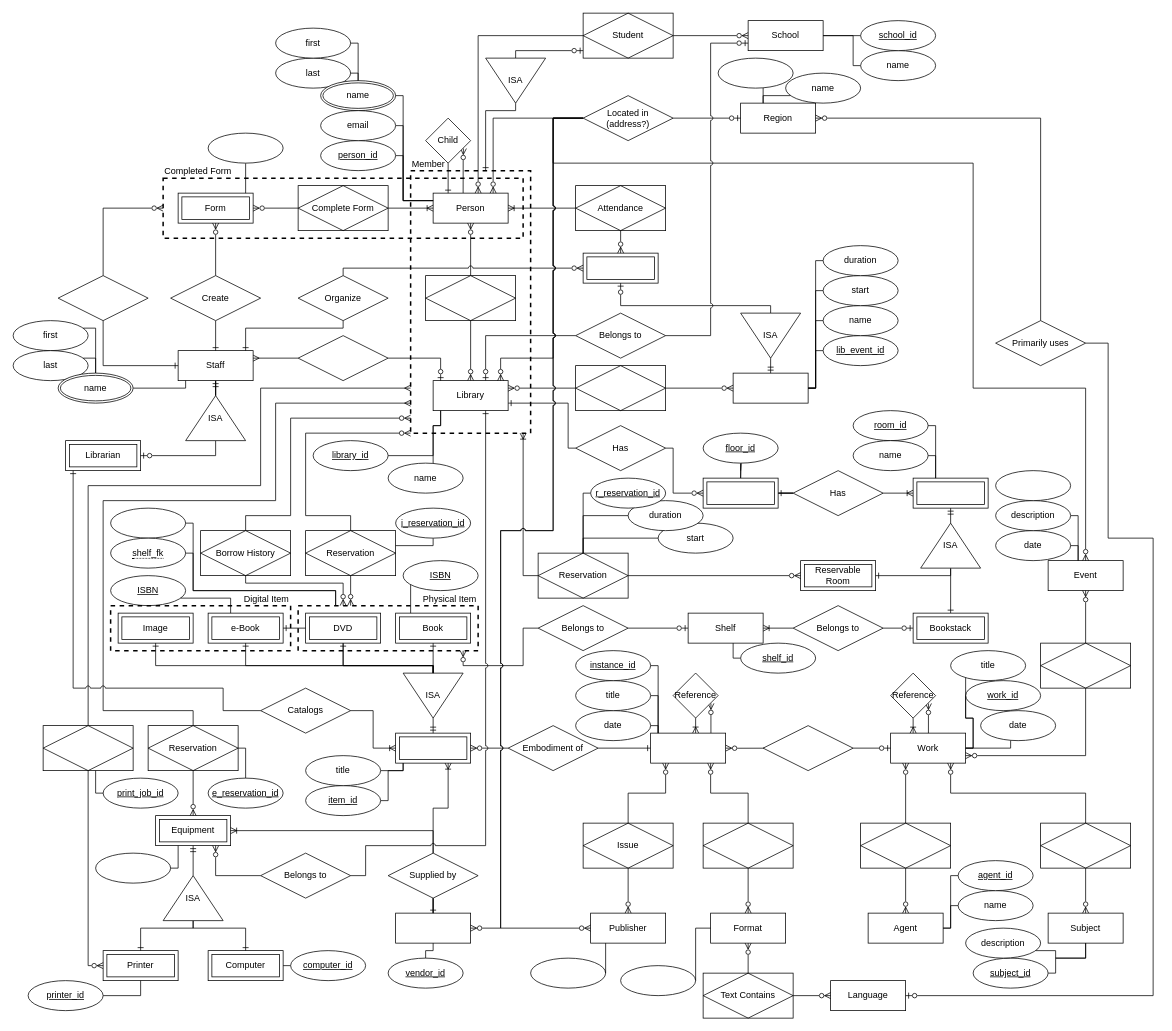
This 1172x1031 diagram has some shape labels left out. Here are the shapes that lost their labels. From the top down, the box of each, then its label:
(717, 57, 793, 88): region_id
(207, 132, 283, 163): form_id
(582, 252, 658, 283): Organized Event
(57, 275, 148, 321): Processes
(425, 275, 516, 321): Membership
(297, 335, 388, 381): Works For
(575, 365, 666, 411): Calendar Event
(732, 372, 808, 403): Library Event
(702, 477, 778, 508): Floor
(912, 477, 988, 508): Room
(995, 470, 1071, 501): event_id
(110, 507, 186, 538): barcode
(1040, 642, 1131, 688): Describe
(42, 725, 133, 771): Print Job
(395, 732, 471, 763): Item
(650, 732, 726, 763): Instance
(762, 725, 853, 771): Instance of
(702, 822, 793, 868): Media
(860, 822, 951, 868): Contribute
(1040, 822, 1131, 868): Discuss
(95, 852, 171, 883): equipment_id
(395, 912, 471, 943): Vendor
(530, 957, 606, 988): publisher_id
(620, 965, 696, 996): format_id
